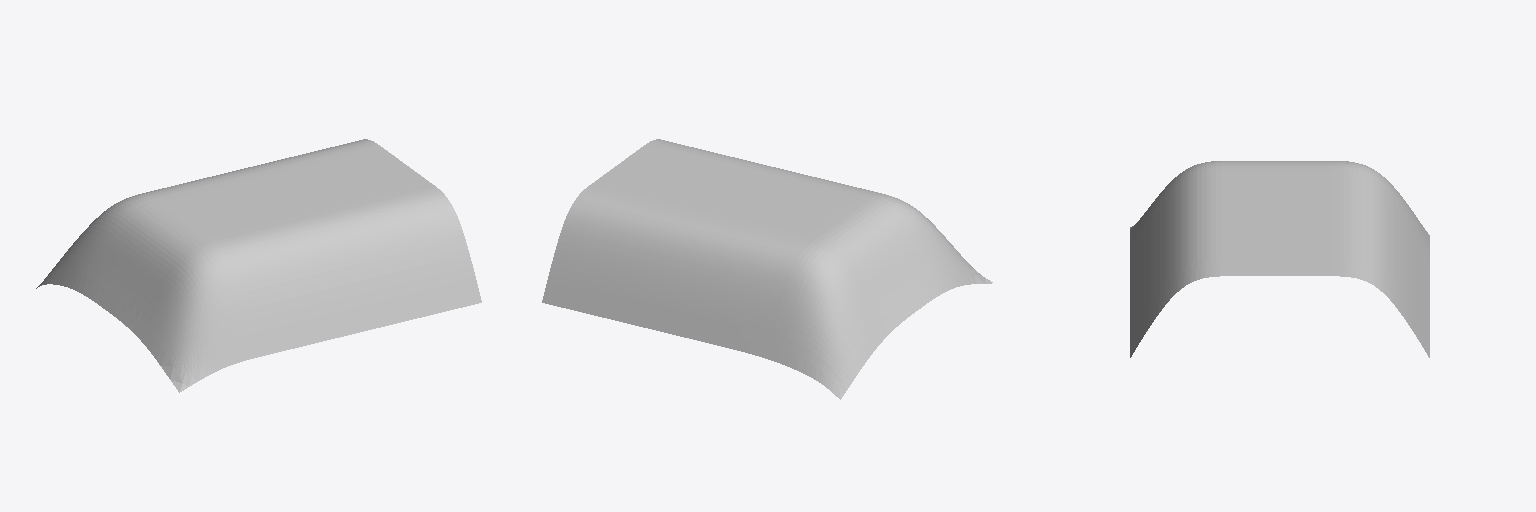
Rendered from blanket.obj.
3 views of the same model, side by side, from view 1: azimuth 30°, elevation 25°; view 2: azimuth 150°, elevation 25°; view 3: azimuth 270°, elevation 25° (orthographic).
Parts seen in each view (by area): view 1: blanket; view 2: blanket; view 3: blanket.
Part boxes in pixels (bbox=[...]): blanket: bbox=[36, 139, 481, 392]; blanket: bbox=[542, 139, 992, 399]; blanket: bbox=[1130, 161, 1429, 357].
Size of the model in its own units: 77 by 26 by 66.